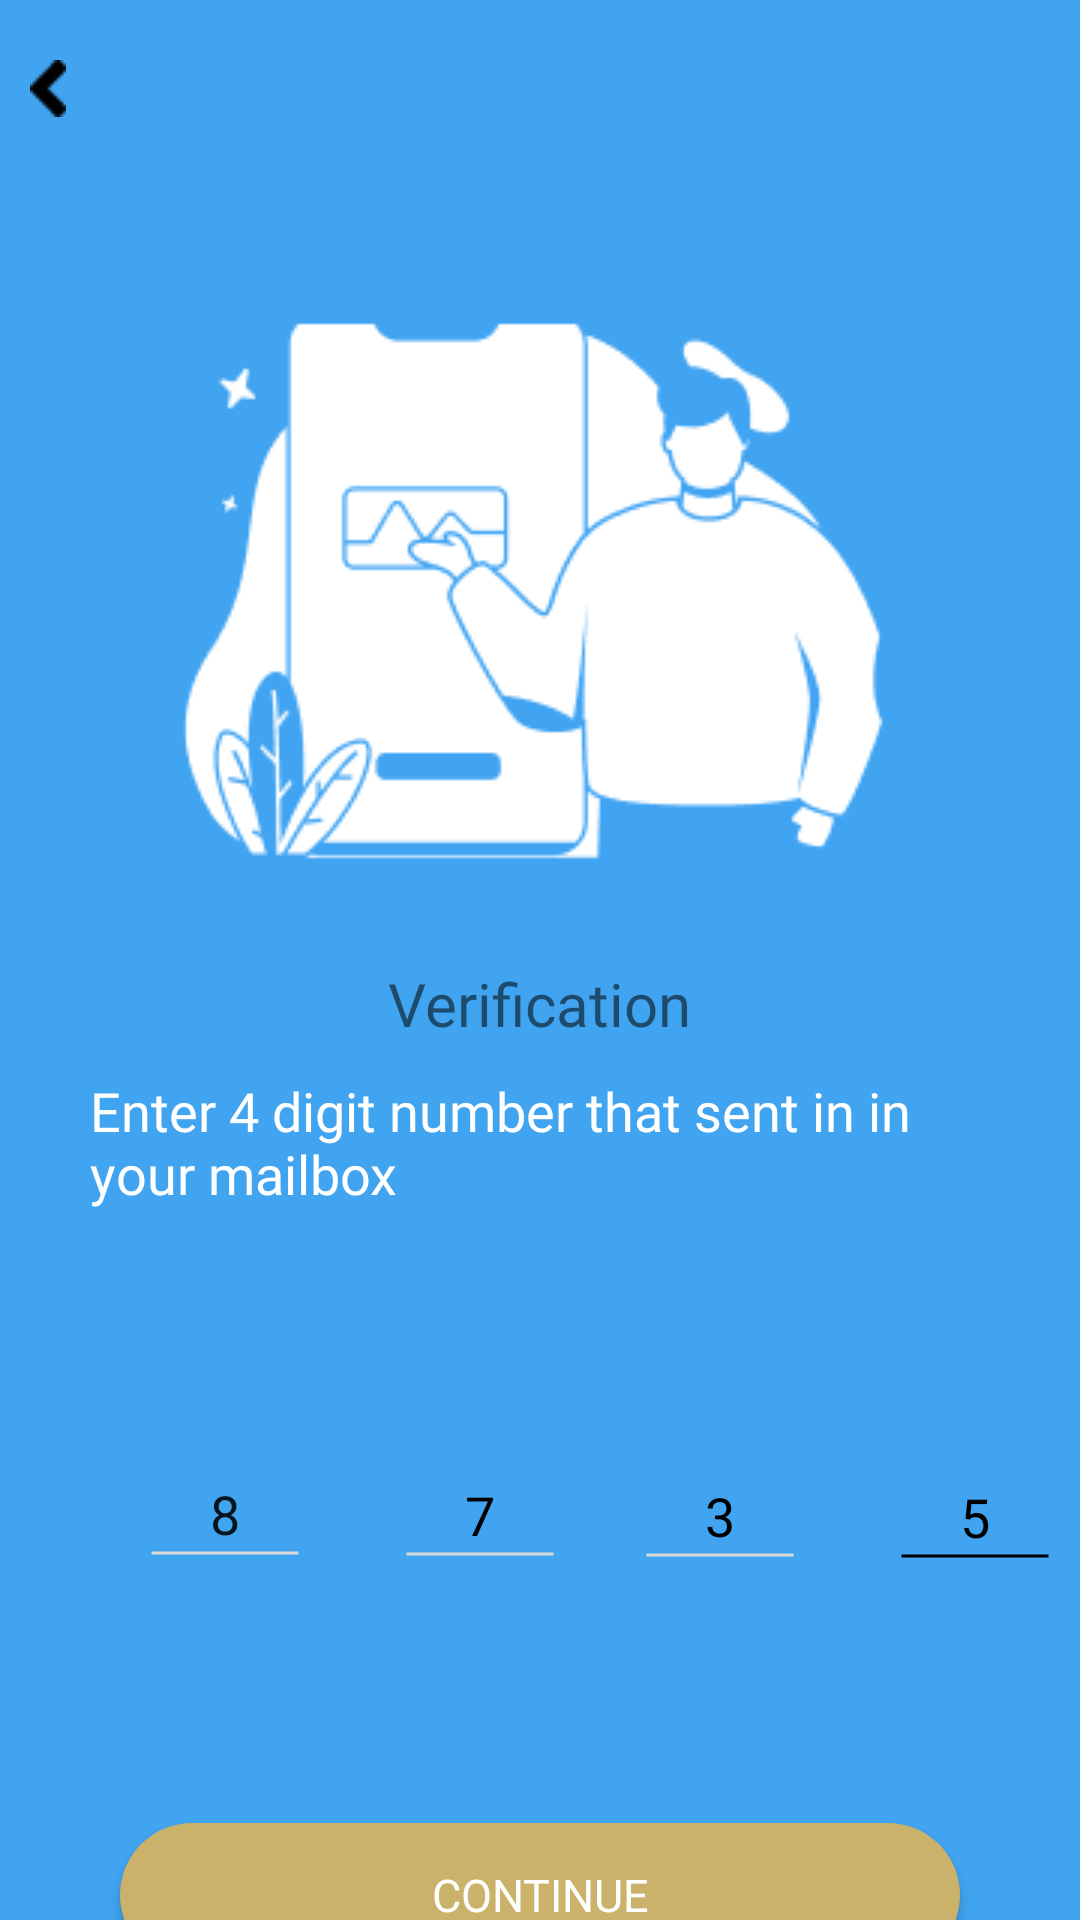

Named icons in this screenshot (1080×1920) and their bounding boxes, detection(x1, y1, x2, y2):
retour: detection(30, 60, 66, 117)
